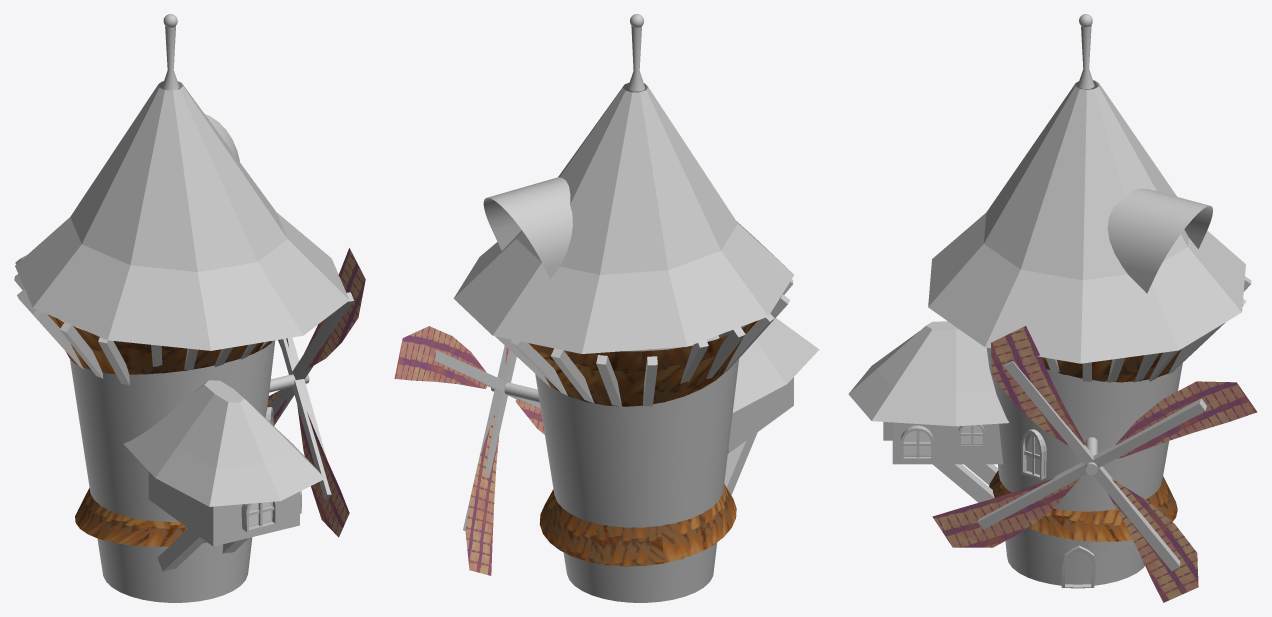
The model's file is WindMill (2).fbx.
The picture shows the model from 3 angles, left to right: view 1: azimuth 30°, elevation 25°; view 2: azimuth 150°, elevation 25°; view 3: azimuth 270°, elevation 25°; orthographic projection. The views are drawn at different scales.
Parts seen in each view (by area): view 1: Cylinder.003, Cube.001, Cylinder, Cylinder.001, Cube, Plane.001, Cube.025, Cylinder.002, Cube.017, Cylinder.004, Cube.002, Cylinder.007 (+1 smaller); view 2: Cylinder.003, Cylinder, Cylinder.004, Plane.001, Cylinder.002, Cylinder.005, Cube.017, Cylinder.001, Cube.001, Cube.025, Cube, Cube.002 (+1 smaller); view 3: Cylinder.003, Plane.001, Cylinder, Cube.001, Cube.025, Cylinder.005, Cylinder.001, Cylinder.004, Cube, Cylinder.007, Cube.017, Cylinder.002 (+3 smaller).
Boxes of the visible parts, <box> form: Cylinder.003: <box>15,81,349,350</box>; Cube.001: <box>123,380,325,506</box>; Cylinder: <box>64,321,275,521</box>; Cylinder.001: <box>97,537,252,602</box>; Cube: <box>148,471,299,546</box>; Plane.001: <box>267,248,365,537</box>; Cube.025: <box>269,292,353,500</box>; Cylinder.002: <box>48,314,271,374</box>; Cube.017: <box>14,255,273,385</box>; Cylinder.004: <box>75,488,206,546</box>; Cube.002: <box>157,528,248,571</box>; Cylinder.007: <box>241,407,301,532</box>; Cylinder.003: <box>453,83,793,353</box>; Cylinder: <box>535,326,742,527</box>; Cylinder.004: <box>539,484,736,566</box>; Plane.001: <box>394,326,544,575</box>; Cylinder.002: <box>528,320,757,406</box>; Cylinder.005: <box>483,177,572,279</box>; Cube.017: <box>495,279,793,406</box>; Cylinder.001: <box>563,542,717,602</box>; Cube.001: <box>649,318,819,412</box>; Cube.025: <box>434,346,540,530</box>; Cube: <box>728,377,793,453</box>; Cube.002: <box>724,432,757,494</box>; Cylinder.003: <box>928,80,1245,363</box>; Plane.001: <box>932,326,1257,602</box>; Cylinder: <box>986,347,1182,511</box>; Cube.001: <box>848,321,1009,426</box>; Cube.025: <box>977,361,1206,570</box>; Cylinder.005: <box>1107,188,1212,293</box>; Cylinder.001: <box>1005,528,1144,585</box>; Cylinder.004: <box>989,470,1177,541</box>; Cube: <box>892,422,1003,464</box>; Cylinder.007: <box>883,422,1046,480</box>; Cube.017: <box>1046,276,1251,382</box>; Cylinder.002: <box>1041,349,1181,382</box>.
Bounding box in the file's own units: 299 × 541 × 370.
